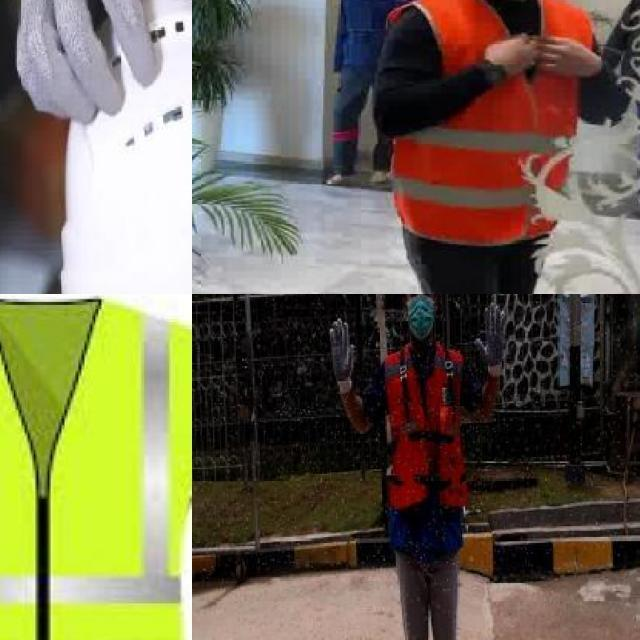apron: (13, 0, 192, 126), (473, 302, 508, 381), (327, 316, 358, 398)
